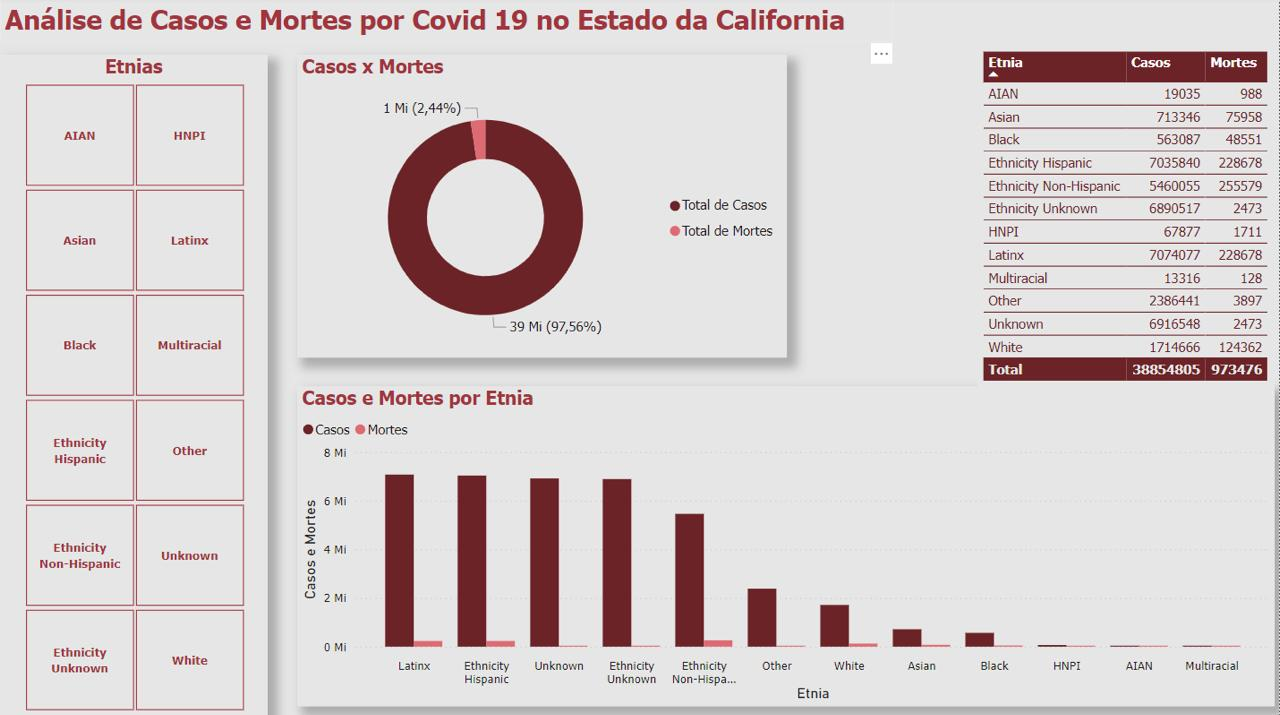

What the dashboard file says about the page in this screenshot:
{"tool":"powerbi","page":{"name":"Análise California","canvas":[1280,720],"ordinal":1},"visuals":[{"type":"donutChart","title":"Casos x Mortes","fields":{"Y":["Sum(total_california.total_cases)","Sum(total_california.total_deaths)"]},"box":[297.4,57.4,489.7,302.7],"z":0},{"type":"clusteredColumnChart","fields":{"Category":["total_california.ethnicity"],"Y":["Sum(total_california.total_cases)","Sum(total_california.total_deaths)"]},"box":[297.3,401.2,978.8,308.1],"z":1000},{"type":"slicer","title":"Etnias","fields":{"Values":["total_california.ethnicity"]},"box":[0,57.4,267.7,662.8],"z":2000},{"type":"textbox","box":[0,0,893.3,44.6],"z":3000},{"type":"tableEx","fields":{"Values":["total_california.ethnicity","Sum(total_california.total_cases)","Sum(total_california.total_deaths)","Medidas.%_Mortes_casos"]},"box":[827.5,49.3,448.7,339.4],"z":4000}]}

Visuals, with their boxes in screenshot pixels (x1, y1, x2, y2), scaled from the page's 1280x720 canvas onto the 1280x715 screenshot:
"Casos x Mortes" donutChart: pyautogui.locateOnScreen(297, 57, 787, 358)
clusteredColumnChart - total_california.ethnicity x Sum(total_california.total_cases): pyautogui.locateOnScreen(297, 398, 1276, 704)
"Etnias" slicer: pyautogui.locateOnScreen(0, 57, 268, 714)
textbox: pyautogui.locateOnScreen(0, 0, 893, 44)
tableEx - total_california.ethnicity x Sum(total_california.total_cases): pyautogui.locateOnScreen(828, 49, 1276, 386)
